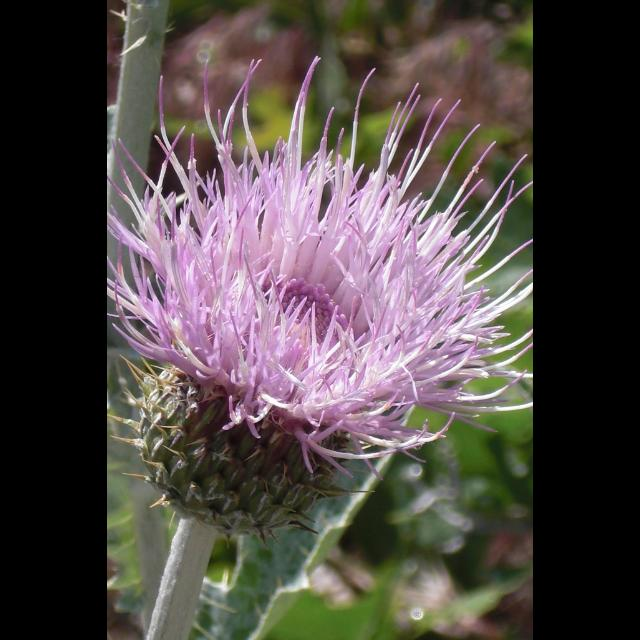Flower: (118, 75, 520, 569)
